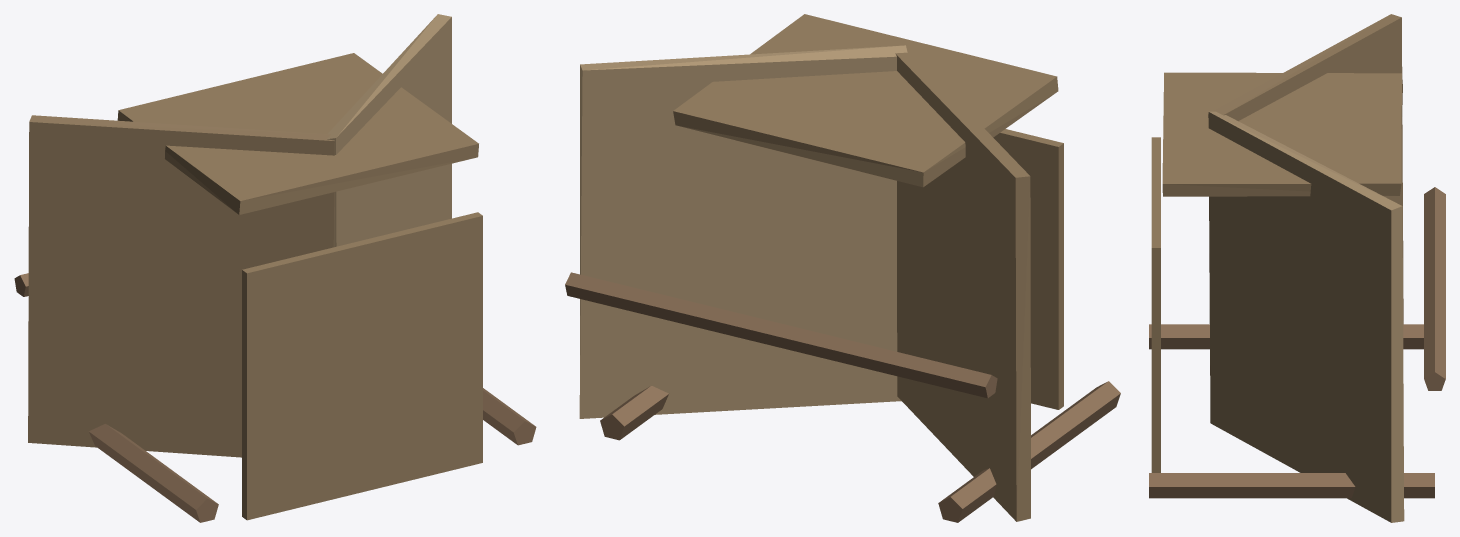
The model's file is Tent.fbx.
3 renders of one model, left to right at view 1: azimuth 30°, elevation 25°; view 2: azimuth 150°, elevation 25°; view 3: azimuth 270°, elevation 25°, orthographic. The views are drawn at different scales.
Visible parts, largest first — view 1: fam_leather_dark, fam_leather, fam_wood_dark; view 2: fam_leather, fam_leather_dark, fam_wood_dark; view 3: fam_leather, fam_leather_dark, fam_wood_dark.
Part boxes in pixels (bbox=[...]): fam_leather_dark: bbox=[28, 53, 482, 520]; fam_leather: bbox=[327, 14, 451, 246]; fam_wood_dark: bbox=[14, 273, 536, 522]; fam_leather: bbox=[579, 45, 907, 418]; fam_leather_dark: bbox=[673, 14, 1063, 521]; fam_wood_dark: bbox=[565, 272, 1120, 522]; fam_leather: bbox=[1208, 111, 1404, 522]; fam_leather_dark: bbox=[1151, 14, 1403, 472]; fam_wood_dark: bbox=[1149, 187, 1445, 498].
Bounding box in the file's own units: 3.46 × 2.59 × 2.18.
